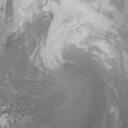cyclone: (38, 28, 89, 78)
